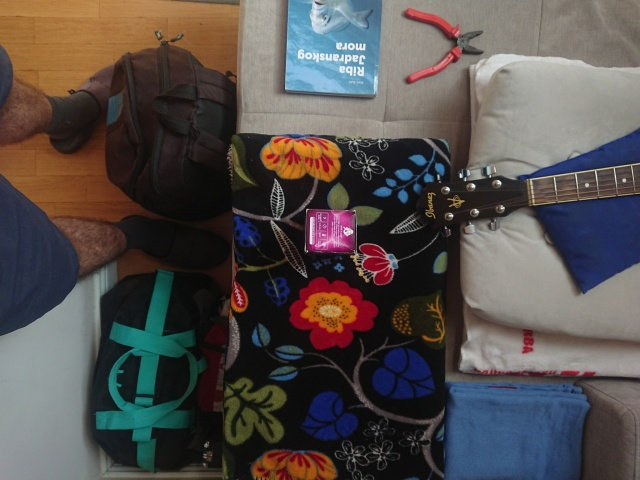Franck Black Currant Tea 60g: (301, 205, 360, 256)
